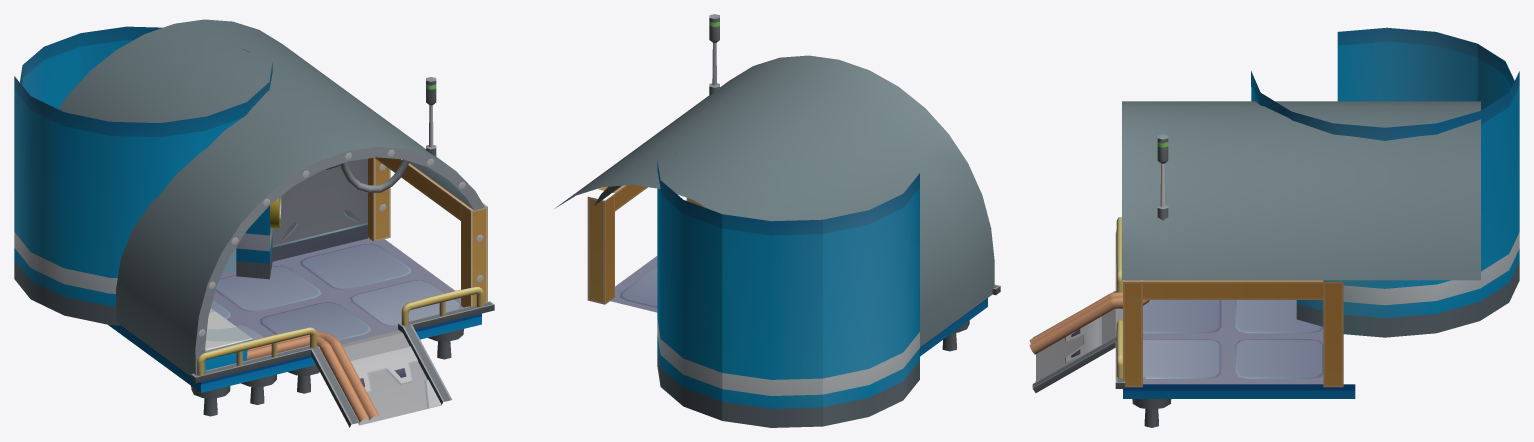
The model's file is GarysLab_0.glb.
3 renders of one model, left to right at view 1: azimuth 30°, elevation 25°; view 2: azimuth 150°, elevation 25°; view 3: azimuth 270°, elevation 25°, orthographic. The views are drawn at different scales.
Visible parts, largest first — view 1: GarysLab; view 2: GarysLab; view 3: GarysLab.
Part boxes in pixels (x1,y1,x2,y2): GarysLab: (14,19,494,427); GarysLab: (554,14,1000,427); GarysLab: (1029,27,1519,427).
Size of the model in its own units: 6.21 by 4.89 by 7.65.
